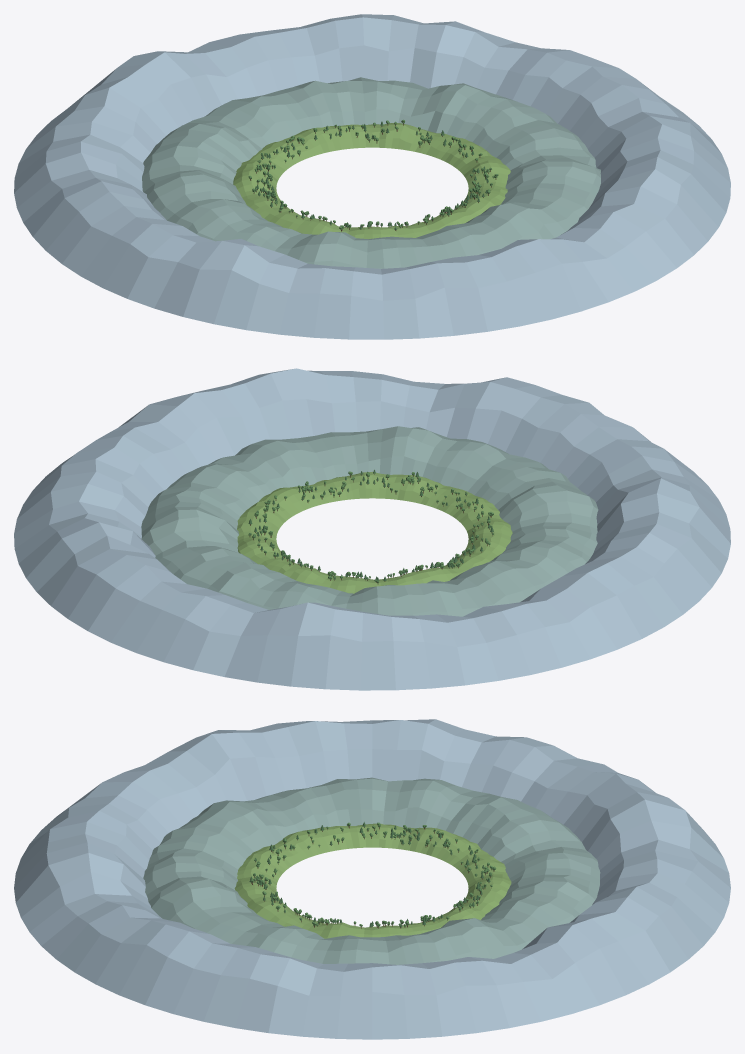
Rendered from Backdrop_Hills.fbx.
The picture shows the model from 3 angles, top to bottom: view 1: azimuth 30°, elevation 25°; view 2: azimuth 150°, elevation 25°; view 3: azimuth 270°, elevation 25°; orthographic projection.
Parts seen in each view (by area): view 1: Hills_Far, Hills_Mid, Hills_Near; view 2: Hills_Far, Hills_Mid, Hills_Near; view 3: Hills_Far, Hills_Mid, Hills_Near.
Boxes of the visible parts, x1=… form: Hills_Far: x1=14, y1=14, x2=730, y2=339; Hills_Mid: x1=142, y1=77, x2=600, y2=268; Hills_Near: x1=233, y1=119, x2=510, y2=239; Hills_Far: x1=14, y1=368, x2=730, y2=690; Hills_Mid: x1=141, y1=426, x2=598, y2=616; Hills_Near: x1=237, y1=469, x2=512, y2=593; Hills_Far: x1=14, y1=719, x2=730, y2=1039; Hills_Mid: x1=143, y1=777, x2=600, y2=964; Hills_Near: x1=234, y1=822, x2=511, y2=938.
Size of the model in its own units: 1120 by 92.59 by 1120.
